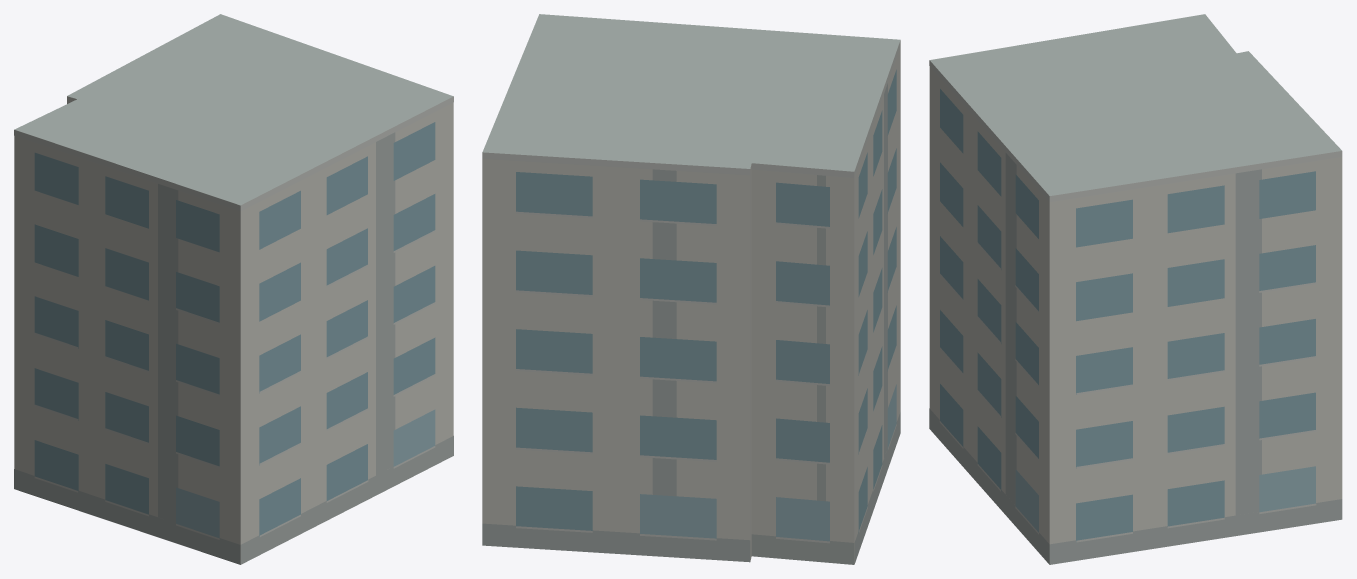
The model's file is survey-upis-32853012.glb.
The picture shows the model from 3 angles, left to right: view 1: azimuth 30°, elevation 25°; view 2: azimuth 150°, elevation 25°; view 3: azimuth 270°, elevation 25°; orthographic projection. The views are drawn at different scales.
Visible parts, largest first — view 1: survey-upis-32853012.tmp; view 2: survey-upis-32853012.tmp; view 3: survey-upis-32853012.tmp.
Part boxes in pixels (bbox=[...]): survey-upis-32853012.tmp: bbox=[14, 14, 453, 564]; survey-upis-32853012.tmp: bbox=[482, 14, 900, 564]; survey-upis-32853012.tmp: bbox=[929, 14, 1342, 564].
Size of the model in its own units: 15.85 by 14.95 by 15.18.
